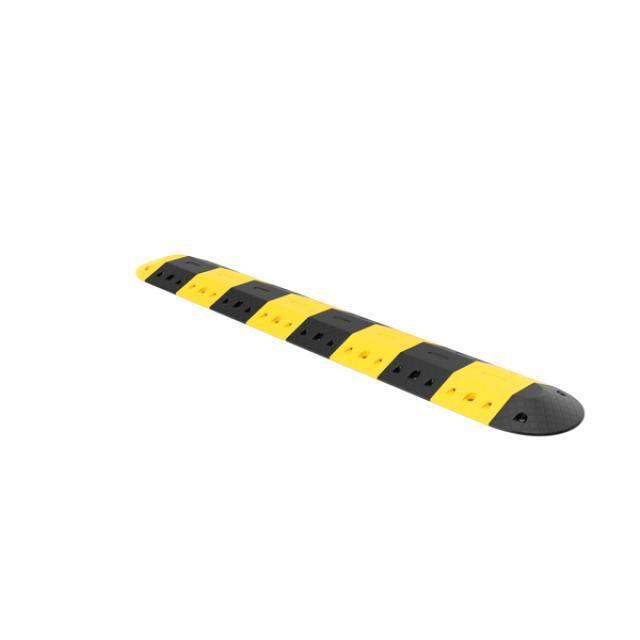Marked Bump: (137, 234, 585, 464)
